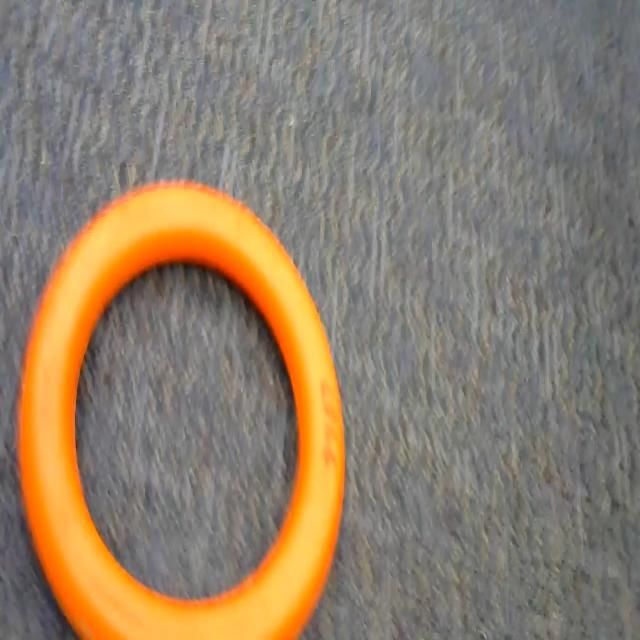note: (13, 150, 351, 640)
